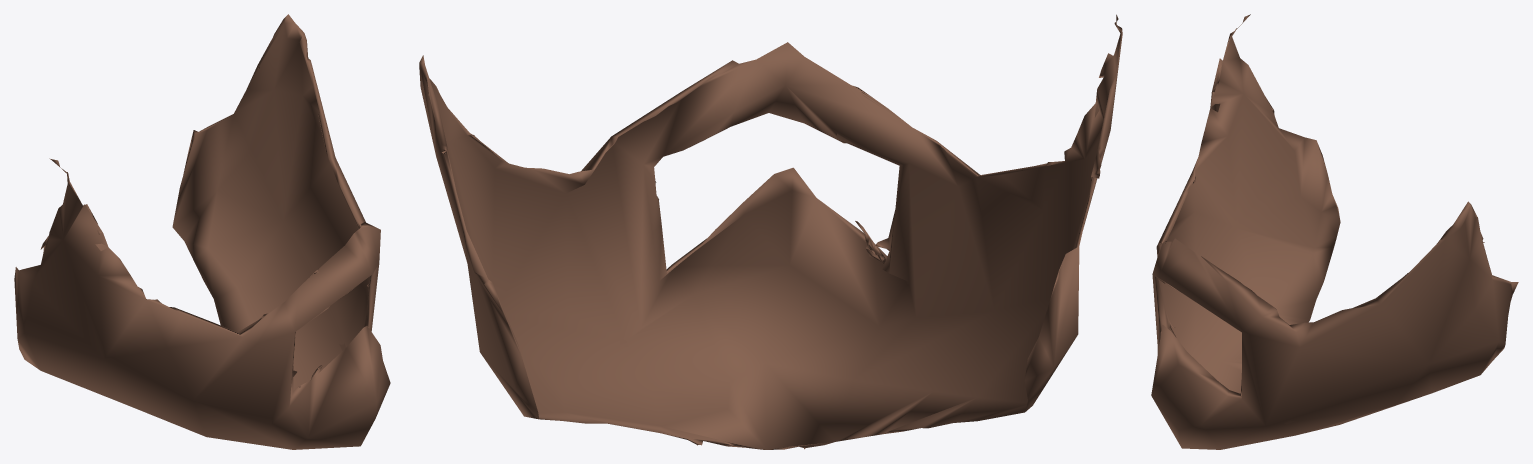
File: Beard_short_LOD2.glb
The picture shows the model from 3 angles, left to right: view 1: azimuth 30°, elevation 25°; view 2: azimuth 150°, elevation 25°; view 3: azimuth 270°, elevation 25°; orthographic projection. The views are drawn at different scales.
Parts seen in each view (by area): view 1: Beard_short_LOD2; view 2: Beard_short_LOD2; view 3: Beard_short_LOD2.
Boxes of the visible parts, x1=… form: Beard_short_LOD2: x1=14, y1=14, x2=390, y2=449; Beard_short_LOD2: x1=419, y1=14, x2=1122, y2=449; Beard_short_LOD2: x1=1151, y1=14, x2=1518, y2=449.
Size of the model in its own units: 0.2104 by 0.1803 by 0.1941.
